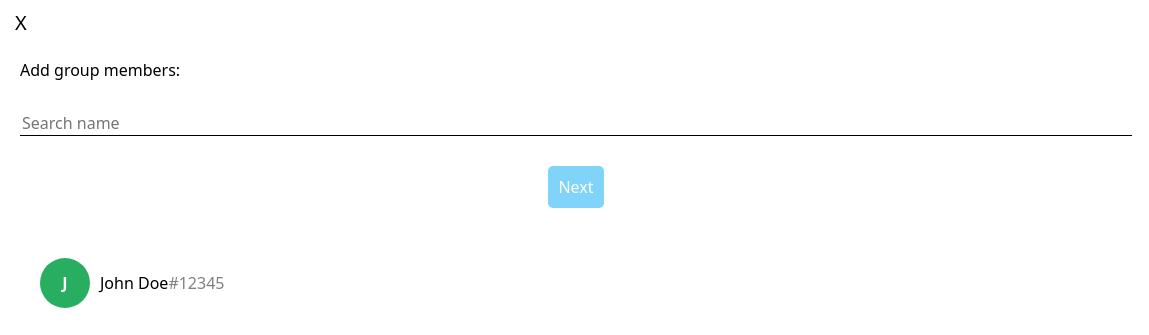
AddGroup Component › When clicking a selectedContactRemoveBtn › gets removed from selectedContacts
Click the button with test id "addContactToGroup" at (65, 283), box [30,248,1122,318]
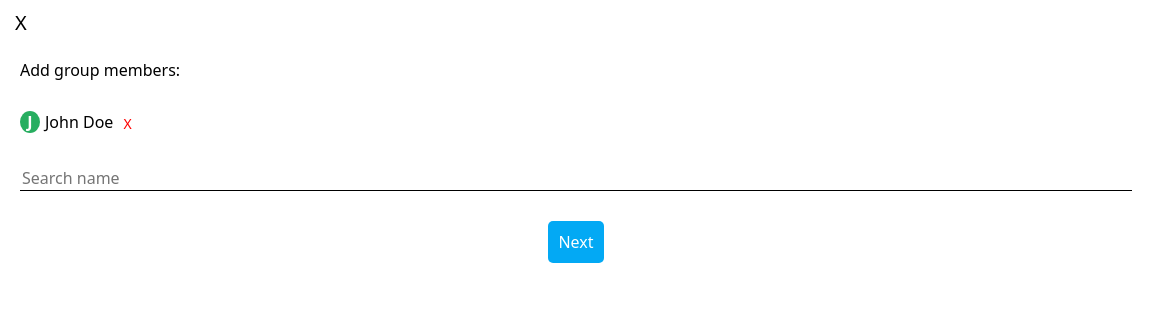
Check: the list item with test id "selectedWrapper" is shown, box [20,111,137,136]
Click the button with test id "selectedRemoveBtn" at (128, 124), box [118,111,137,136]
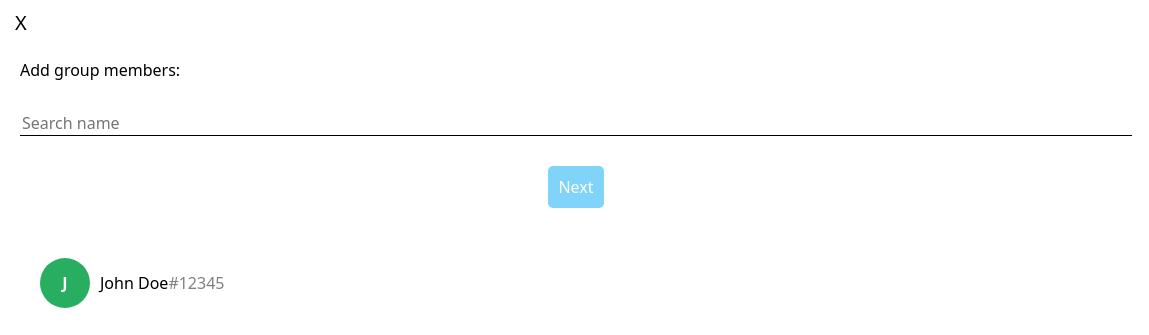
Check: the list item with test id "selectedWrapper" is gone
